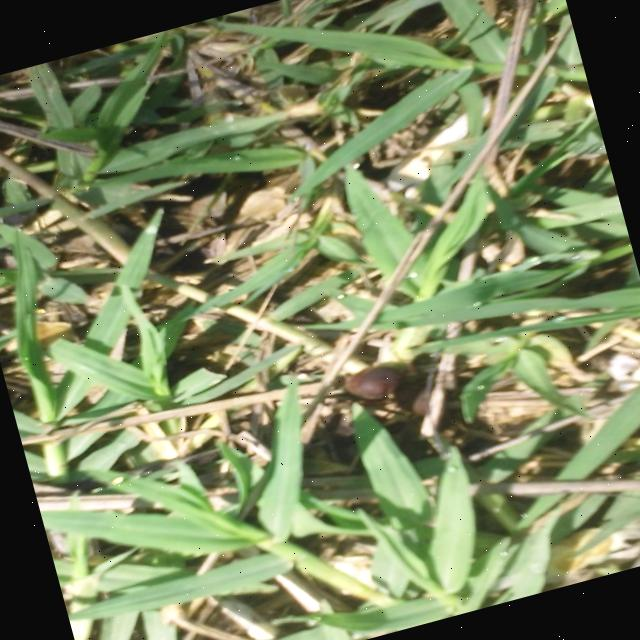Alive-Female-Dealate: (288, 326, 451, 447)
